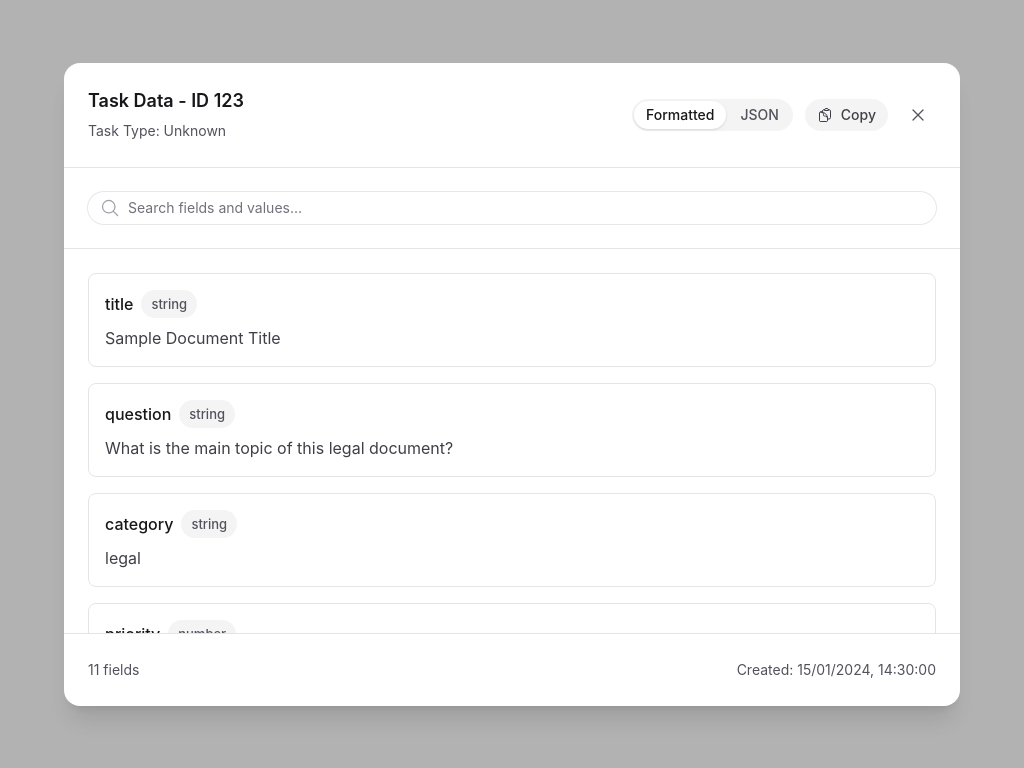
it: TaskDataViewModal › should copy to clipboard in formatted mode
This screenshot has width=1024, height=768.
What coordinates should you click on to do the following:
click the button "Copy"
I would click on:
 (846, 114)
Its box is [805,98,888,130].
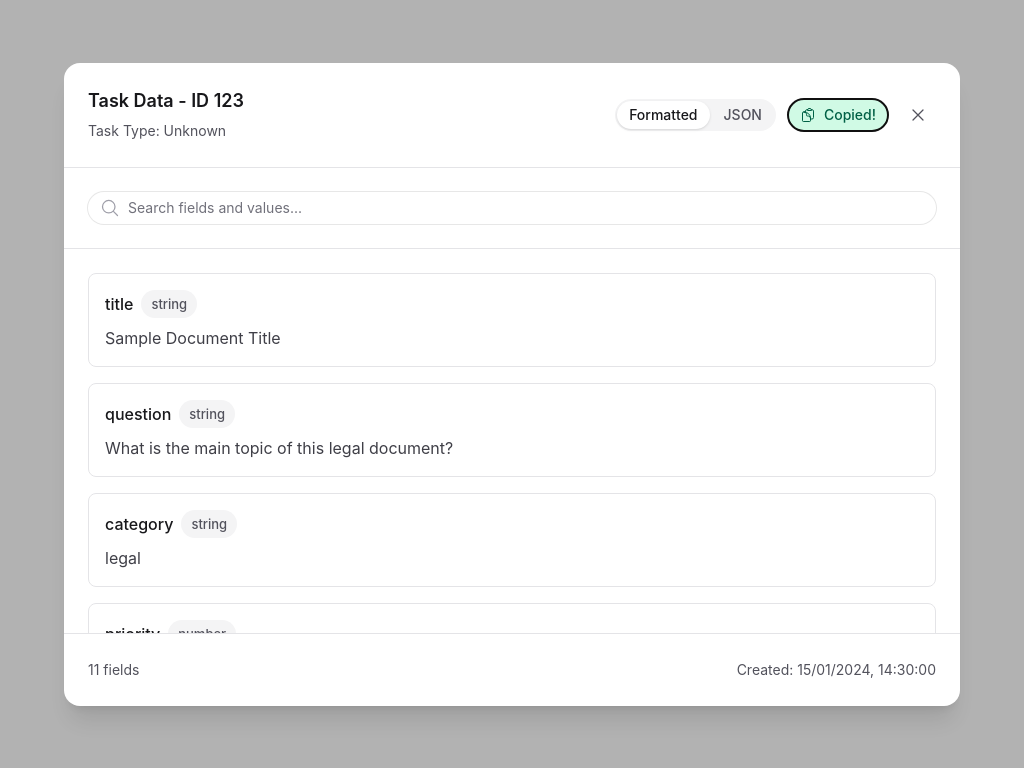
Check: the button "Copied!" is shown, box [788,98,888,130]
